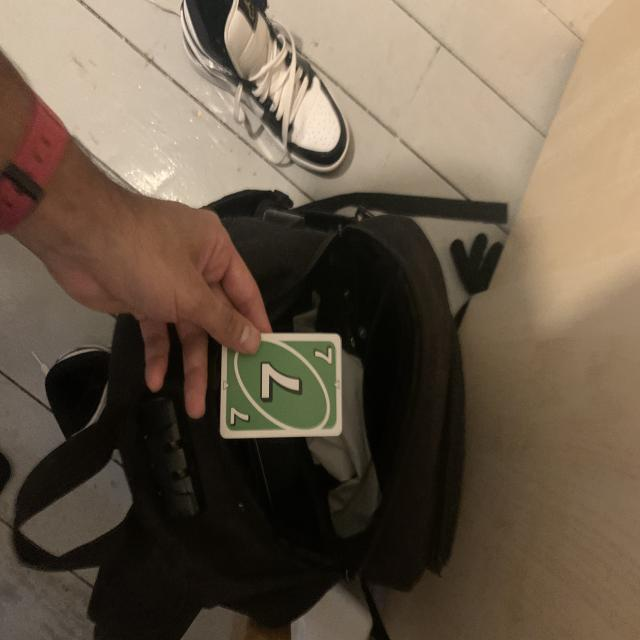lgreen-7: (309, 338, 338, 368)
